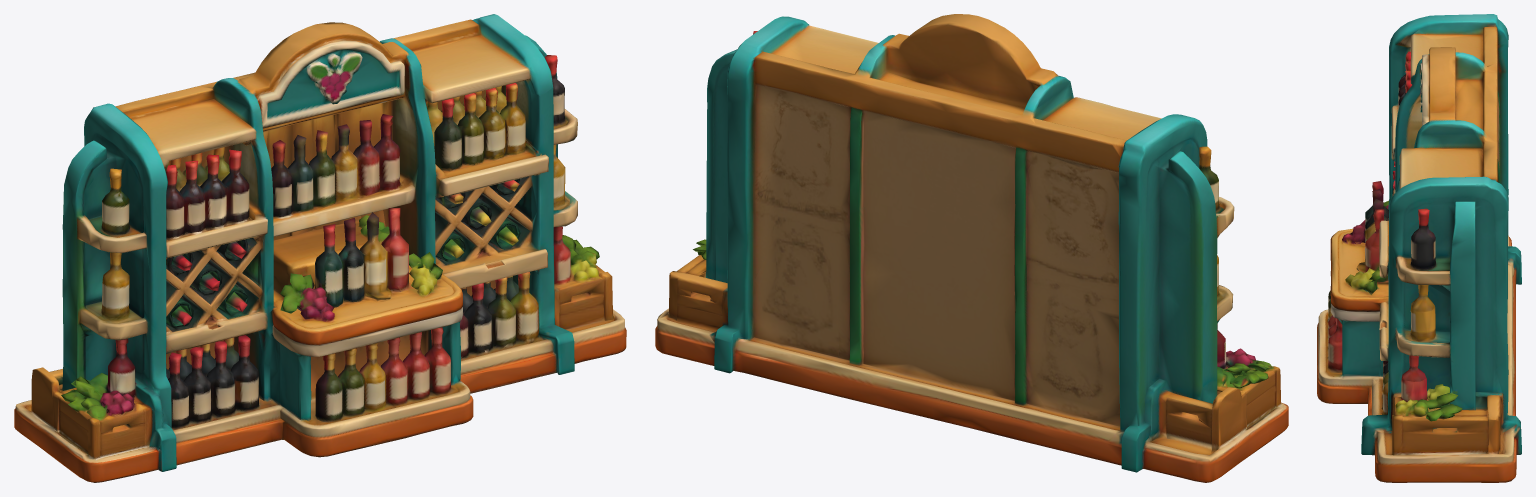
Rendered from WineRack.fbx.
3 renders of one model, left to right at view 1: azimuth 30°, elevation 25°; view 2: azimuth 150°, elevation 25°; view 3: azimuth 270°, elevation 25°, orthographic. The views are drawn at different scales.
Parts seen in each view (by area): view 1: tripo_node_88d93a00-5825-45cf-8bc9-7f0aeecccbde; view 2: tripo_node_88d93a00-5825-45cf-8bc9-7f0aeecccbde; view 3: tripo_node_88d93a00-5825-45cf-8bc9-7f0aeecccbde.
Boxes of the visible parts, bbox=[...] form: tripo_node_88d93a00-5825-45cf-8bc9-7f0aeecccbde: bbox=[14, 14, 626, 482]; tripo_node_88d93a00-5825-45cf-8bc9-7f0aeecccbde: bbox=[655, 14, 1288, 482]; tripo_node_88d93a00-5825-45cf-8bc9-7f0aeecccbde: bbox=[1317, 14, 1521, 482].
Bounding box in the file's own units: 98.03 × 61.36 × 36.32.
Materials: 1 (1 with a texture image).
